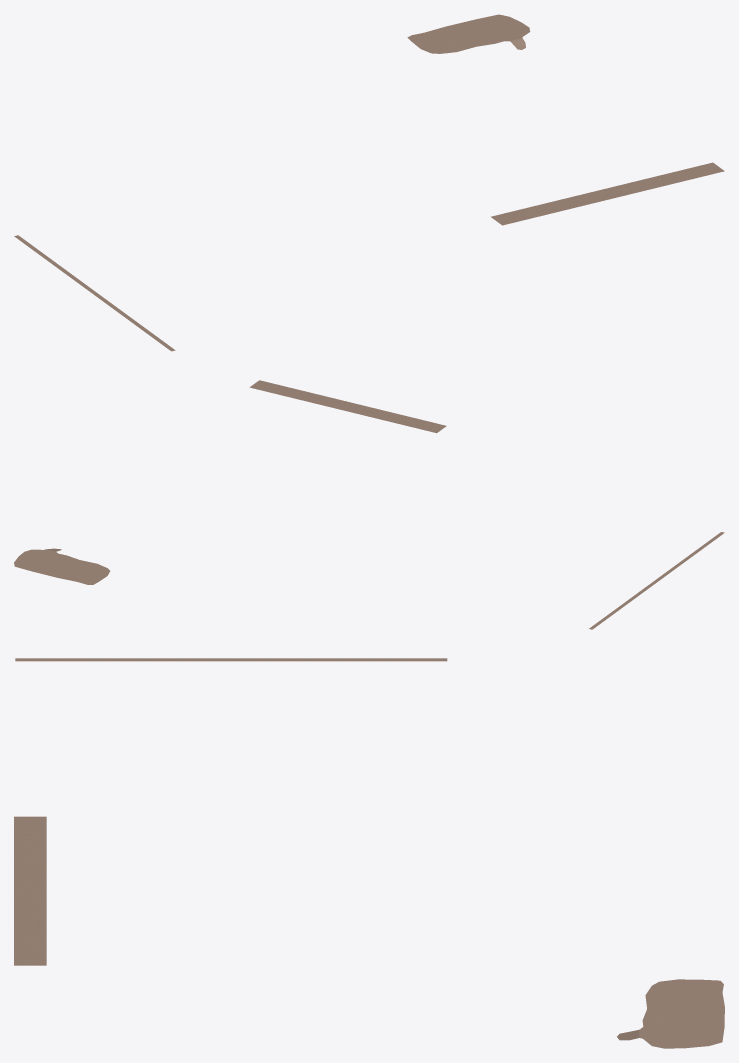
File: kd_stage_135d18_4_132_bounded.glb
The picture shows the model from 3 angles, top to bottom: view 1: azimuth 30°, elevation 25°; view 2: azimuth 150°, elevation 25°; view 3: azimuth 270°, elevation 25°; orthographic projection. The views are drawn at different scales.
Parts seen in each view (by area): view 1: kd_stage_135d18_4_132_bounded; view 2: kd_stage_135d18_4_132_bounded; view 3: kd_stage_135d18_4_132_bounded.
Boxes of the visible parts, x1,y1,x2,y2 form: kd_stage_135d18_4_132_bounded: [14, 14, 724, 351]; kd_stage_135d18_4_132_bounded: [14, 380, 724, 629]; kd_stage_135d18_4_132_bounded: [14, 658, 724, 1048].
Size of the model in its own units: 13.74 by 1.01 by 10.37.
Materials: 1 (1 with a texture image).
